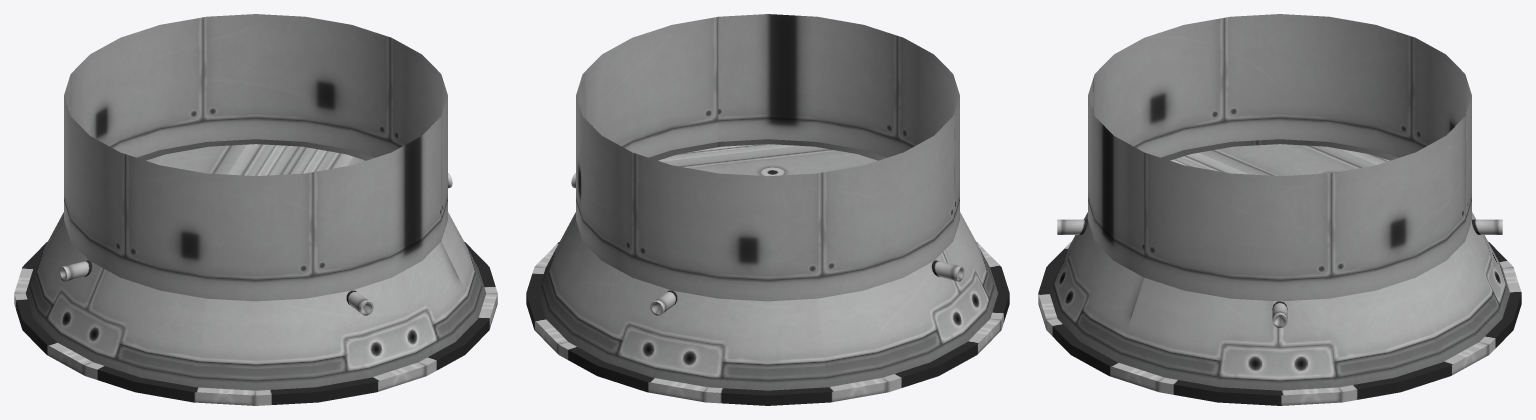
File: Tantares_basic_engine_s1_1.obj
3 views of the same model, side by side, from view 1: azimuth 30°, elevation 25°; view 2: azimuth 150°, elevation 25°; view 3: azimuth 270°, elevation 25° (orthographic).
Visible parts, largest first — view 1: mesh2; view 2: mesh2; view 3: mesh2.
Part boxes in pixels (left/top/right/bottom): mesh2: left=14, top=14, right=497, bottom=405; mesh2: left=526, top=14, right=1009, bottom=405; mesh2: left=1038, top=14, right=1521, bottom=405.
Size of the model in its own units: 1.58 by 0.75 by 1.58.
